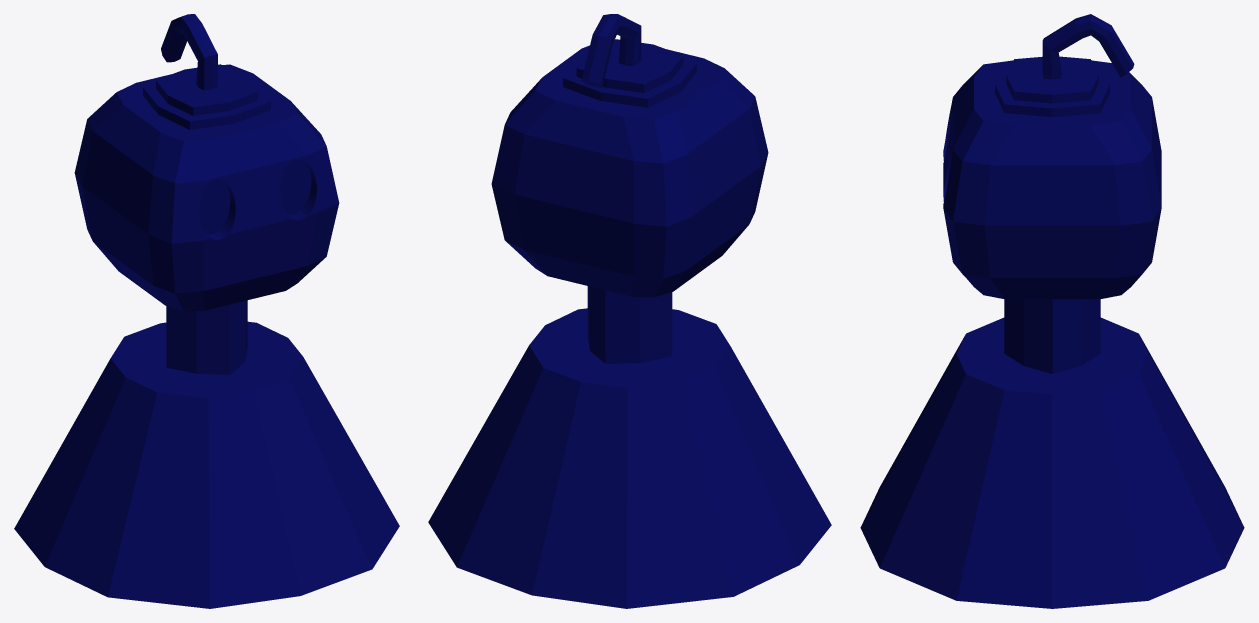
File: kabooma_hood_statue.fbx
3 views of the same model, side by side, from view 1: azimuth 30°, elevation 25°; view 2: azimuth 150°, elevation 25°; view 3: azimuth 270°, elevation 25° (orthographic). The views are drawn at different scales.
Parts seen in each view (by area): view 1: Cube; view 2: Cube; view 3: Cube.
Part boxes in pixels (bbox=[...]): Cube: bbox=[14, 14, 399, 608]; Cube: bbox=[428, 14, 831, 608]; Cube: bbox=[860, 14, 1244, 608].
Size of the model in its own units: 20 by 29.42 by 20.
